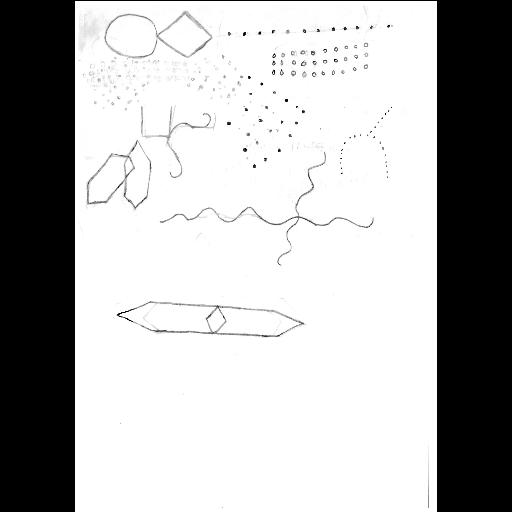shape-1: (104, 9, 214, 59)
shape-2: (226, 20, 392, 36)
shape-3: (271, 38, 369, 80)
shape-4: (225, 80, 307, 170)
shape-5: (139, 103, 211, 179)
shape-6: (340, 102, 394, 180)
shape-7: (161, 150, 375, 266)
shape-8: (82, 139, 154, 211)
shape-9: (116, 299, 306, 339)
